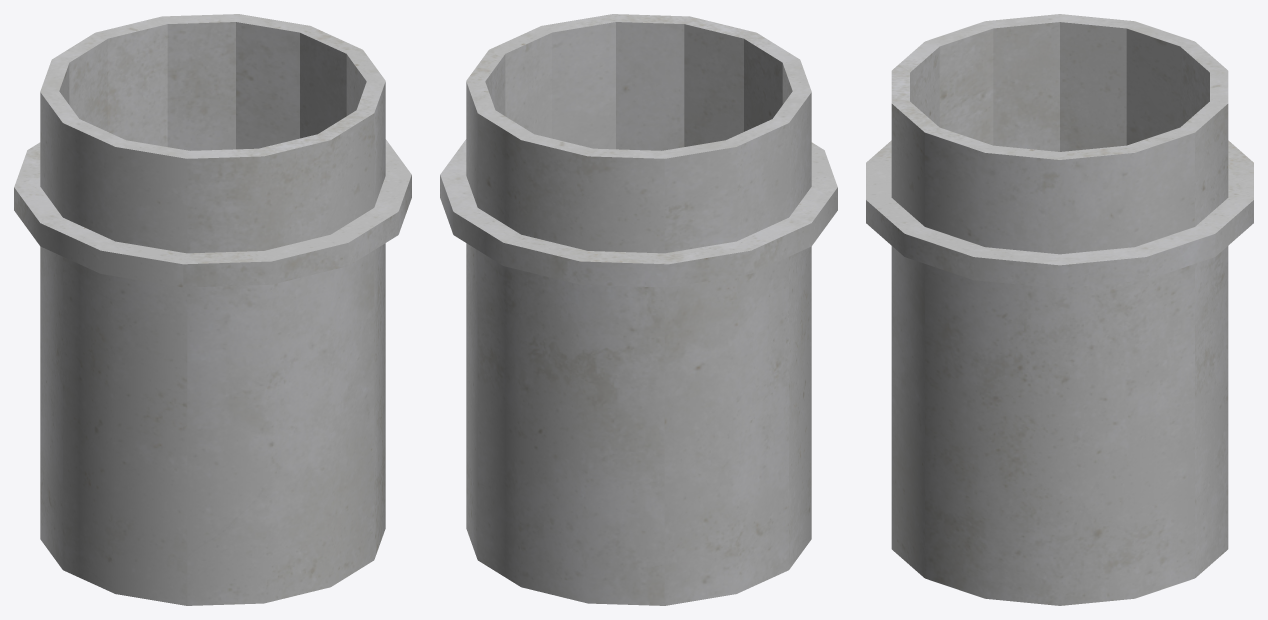
Rendered from SM_抽屉筒.FBX.
The picture shows the model from 3 angles, left to right: view 1: azimuth 30°, elevation 25°; view 2: azimuth 150°, elevation 25°; view 3: azimuth 270°, elevation 25°; orthographic projection.
Visible parts, largest first — view 1: SM_抽屉筒; view 2: SM_抽屉筒; view 3: SM_抽屉筒.
Part boxes in pixels (bbox=[...]): SM_抽屉筒: bbox=[14, 14, 411, 605]; SM_抽屉筒: bbox=[440, 14, 837, 605]; SM_抽屉筒: bbox=[866, 14, 1253, 605].
Size of the model in its own units: 0.1668 by 0.2063 by 0.1626.
